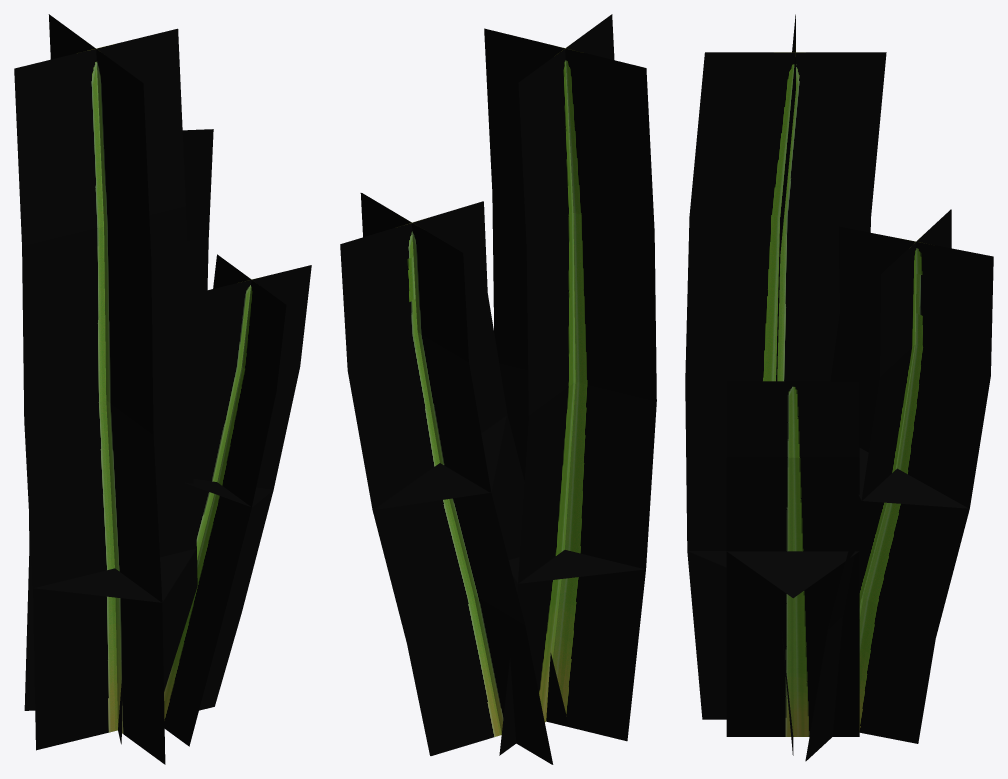
File: ShoalGrass.fbx
The picture shows the model from 3 angles, left to right: view 1: azimuth 30°, elevation 25°; view 2: azimuth 150°, elevation 25°; view 3: azimuth 270°, elevation 25°; orthographic projection. The views are drawn at different scales.
Visible parts, largest first — view 1: Plane.001; view 2: Plane.001; view 3: Plane.001.
Part boxes in pixels (x1,y1,x2,y2): Plane.001: (14,14,311,764); Plane.001: (340,14,656,764); Plane.001: (685,14,993,761).
Bounding box in the file's own units: 43.44 × 96.01 × 40.8.
Materials: 1 (1 with a texture image).
